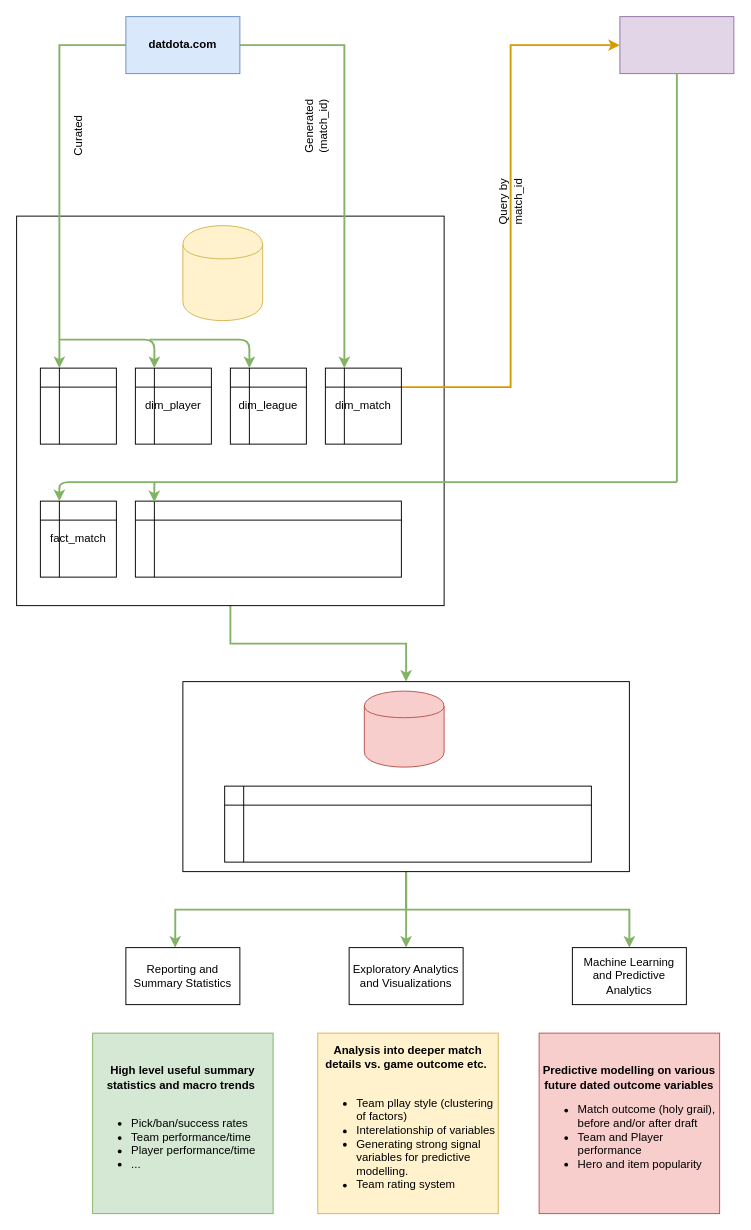
This 751x1230 diagram has some shape labels left out. Each missing label, with the centre of its shape:
analytics subsidiaries: the point at 407,823
dim_team: the point at 77,405
Dota 2 Steam API: the point at 676,45
Dota_Scribe S3: the point at 222,273
Dota_Scribe S3 ANALYTICS: the point at 403,728
match subsidiaries: the point at 267,538
